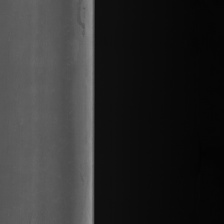water_spot: (71, 1, 89, 46)
